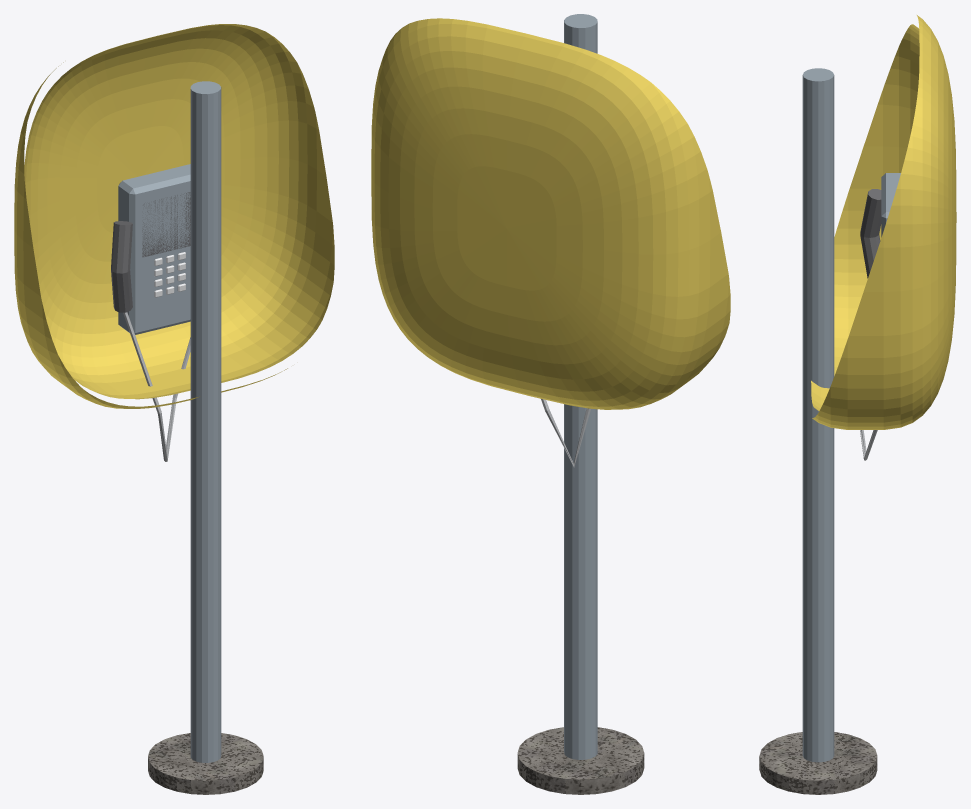
The model's file is orelhao.glb.
3 renders of one model, left to right at view 1: azimuth 30°, elevation 25°; view 2: azimuth 150°, elevation 25°; view 3: azimuth 270°, elevation 25°, orthographic. The views are drawn at different scales.
Parts seen in each view (by area): view 1: orelhao_tinta_amarela, orelhao_aco_pintado, orelhao_concreto, orelhao_plastico_preto, orelhao_esmalte_escuro, orelhao_aco, orelhao_aco_polido; view 2: orelhao_tinta_amarela, orelhao_aco_pintado, orelhao_concreto; view 3: orelhao_tinta_amarela, orelhao_aco_pintado, orelhao_concreto, orelhao_plastico_preto.
Part boxes in pixels (left/top/right/bottom): orelhao_tinta_amarela: left=14, top=24, right=334, bottom=408; orelhao_aco_pintado: left=118, top=81, right=221, bottom=762; orelhao_concreto: left=148, top=733, right=263, bottom=794; orelhao_plastico_preto: left=111, top=221, right=132, bottom=312; orelhao_esmalte_escuro: left=142, top=192, right=190, bottom=257; orelhao_aco: left=123, top=312, right=190, bottom=461; orelhao_aco_polido: left=154, top=252, right=185, bottom=297; orelhao_tinta_amarela: left=371, top=18, right=730, bottom=409; orelhao_aco_pintado: left=564, top=14, right=597, bottom=759; orelhao_concreto: left=517, top=727, right=644, bottom=794; orelhao_tinta_amarela: left=811, top=15, right=956, bottom=429; orelhao_aco_pintado: left=802, top=68, right=900, bottom=762; orelhao_concreto: left=759, top=732, right=877, bottom=794; orelhao_plastico_preto: left=860, top=189, right=881, bottom=278.
Size of the model in its own units: 0.8987 by 2.02 by 0.501.
7 materials, 1 textured.
